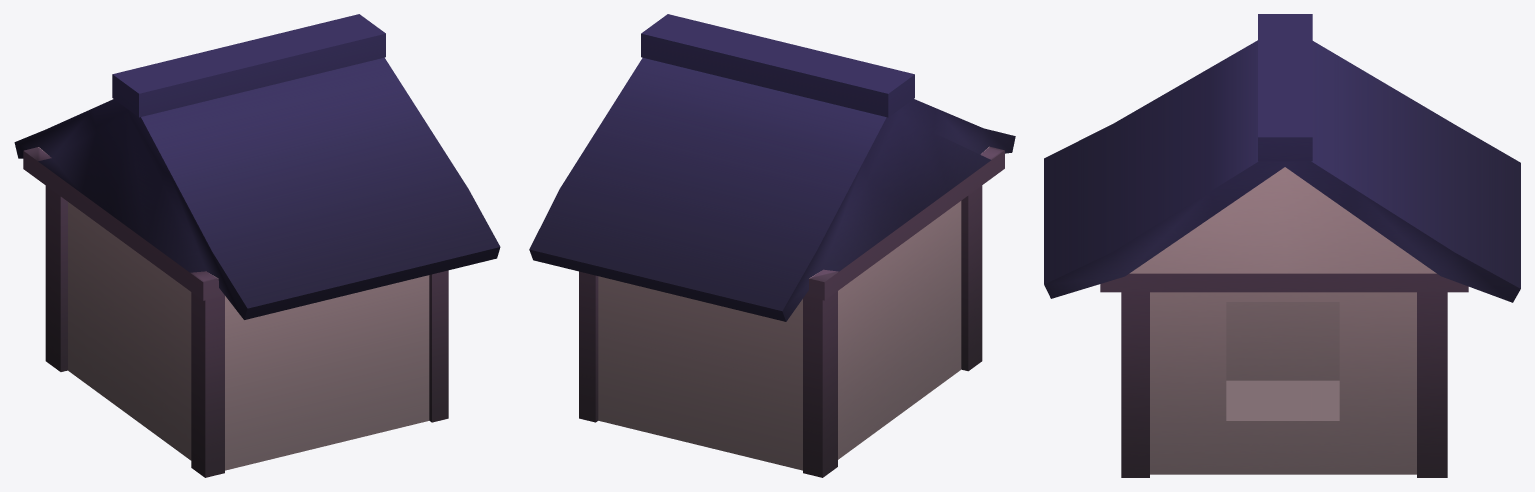
File: CasaCemiterioBase.fbx
3 views of the same model, side by side, from view 1: azimuth 30°, elevation 25°; view 2: azimuth 150°, elevation 25°; view 3: azimuth 270°, elevation 25° (orthographic). The views are drawn at different scales.
Parts seen in each view (by area): view 1: pCube51; view 2: pCube51; view 3: pCube51.
Part boxes in pixels (<box>): pCube51: <box>14,14,500,477</box>; pCube51: <box>529,14,1015,477</box>; pCube51: <box>1044,14,1520,477</box>.
Bounding box in the file's own units: 7.03 × 8.3 × 10.46.
